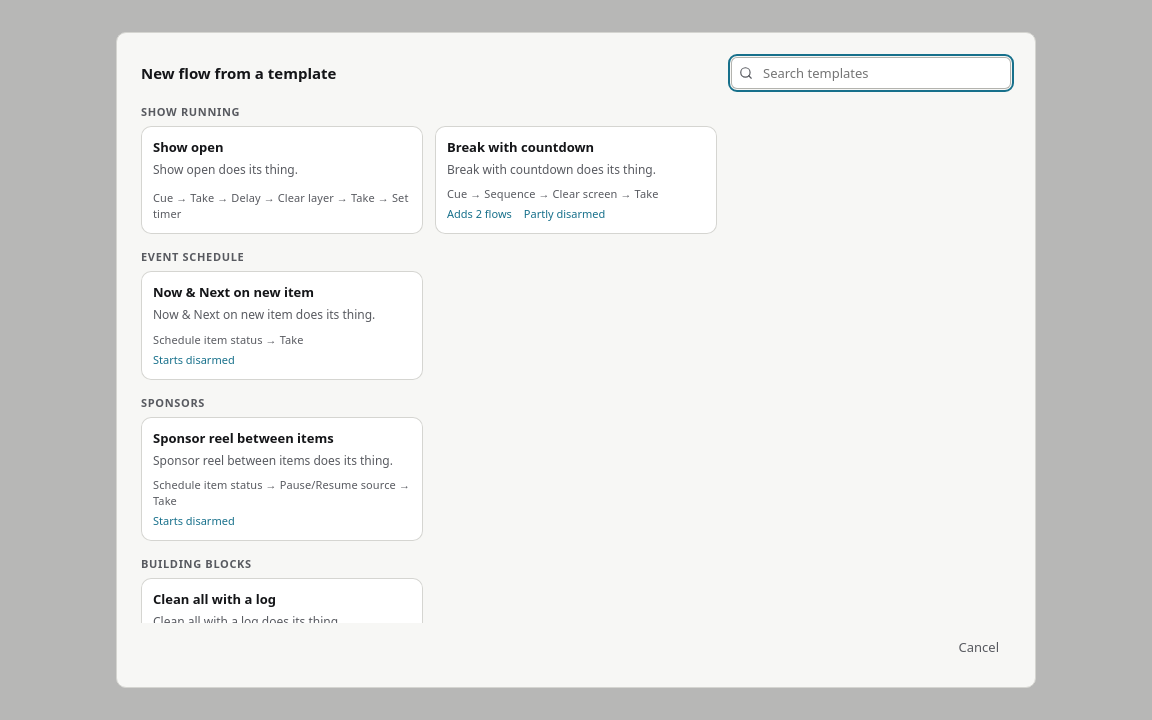
gallery dialog › the form: smart defaults from the layers' presets, required marks, the arm note
Click the option that starts with "Show open": [282, 180] box [141,126,423,234]
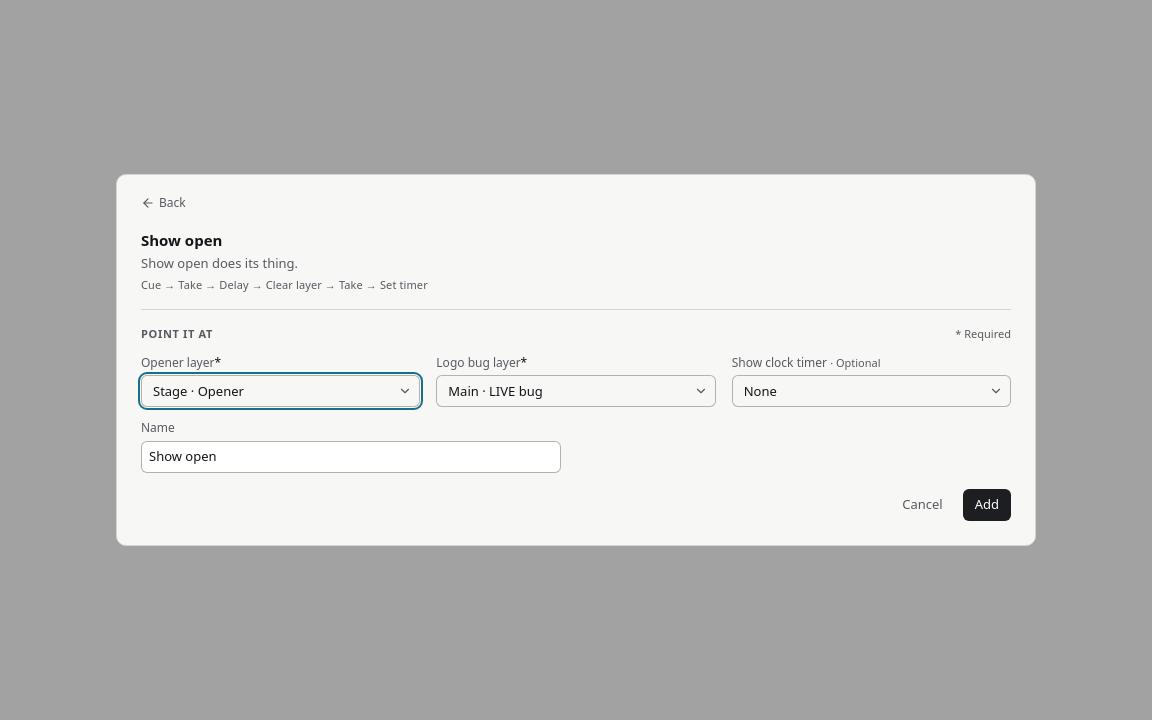
Check: the element showing "Show clock timer · Optional" is shown, box [732,354,1011,407]
Check: the option "Show open" no longer shows "disarmed"
Check: the field labelled "Name" holds "Show open", box [141,441,561,473]
